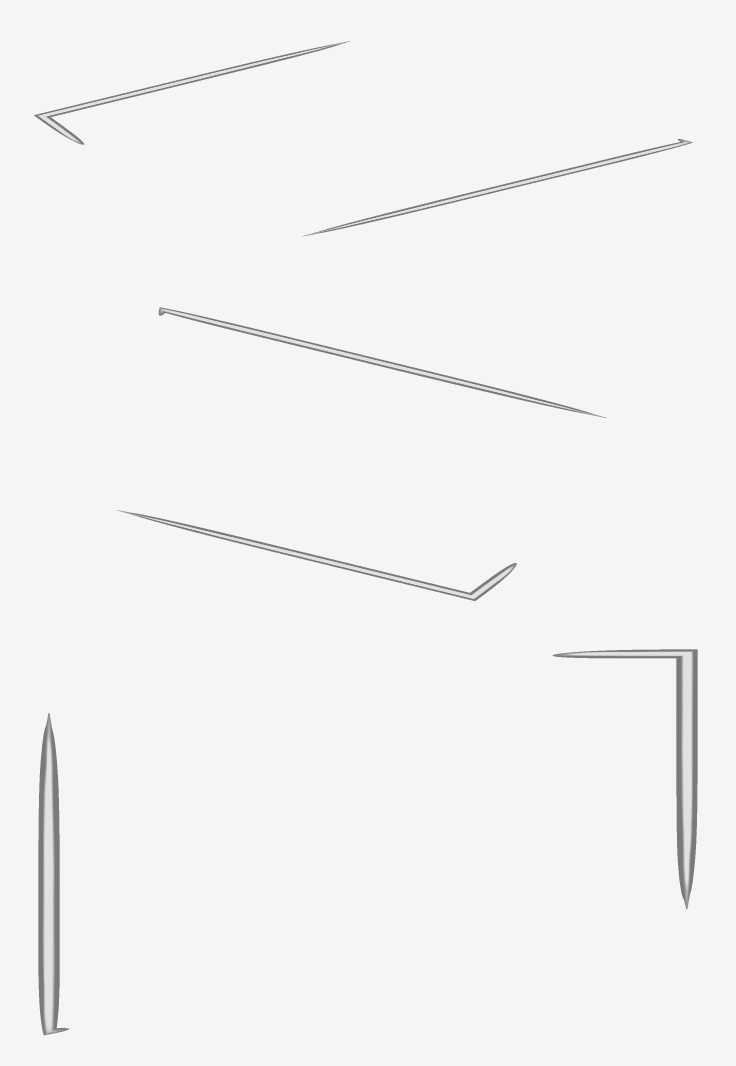
The model's file is chaungguan_buttonedge01.FBX.
3 renders of one model, top to bottom at view 1: azimuth 30°, elevation 25°; view 2: azimuth 150°, elevation 25°; view 3: azimuth 270°, elevation 25°, orthographic. The views are drawn at different scales.
Visible parts, largest first — view 1: chuangguan_buttonedge01; view 2: chuangguan_buttonedge01; view 3: chuangguan_buttonedge01.
Boxes of the visible parts, bbox=[...] form: chuangguan_buttonedge01: bbox=[34, 41, 692, 236]; chuangguan_buttonedge01: bbox=[117, 307, 606, 600]; chuangguan_buttonedge01: bbox=[38, 649, 697, 1035].
Size of the model in its own units: 248 by 5.09e-14 by 180.
Materials: 1 (1 with a texture image).
